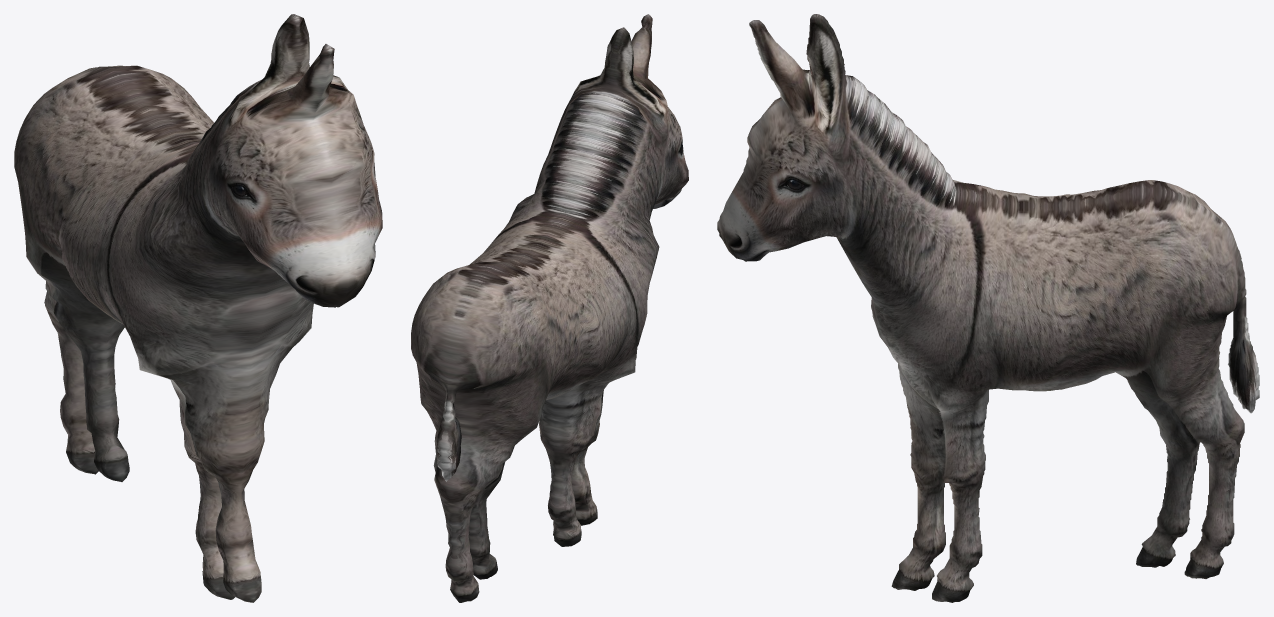
File: ane.glb
3 views of the same model, side by side, from view 1: azimuth 30°, elevation 25°; view 2: azimuth 150°, elevation 25°; view 3: azimuth 270°, elevation 25° (orthographic). The views are drawn at different scales.
Parts seen in each view (by area): view 1: ane; view 2: ane; view 3: ane.
Part boxes in pixels (x1,y1,x2,y2): ane: [14, 14, 382, 602]; ane: [411, 14, 688, 602]; ane: [717, 14, 1259, 602].
Bounding box in the file's own units: 0.3911 × 1.15 × 0.9622.
Materials: 1 (1 with a texture image).
